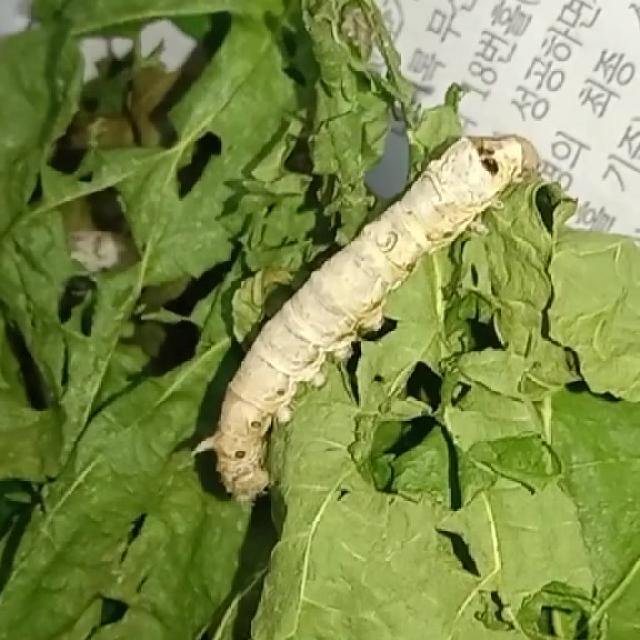Grasserie: (189, 114, 547, 516)
